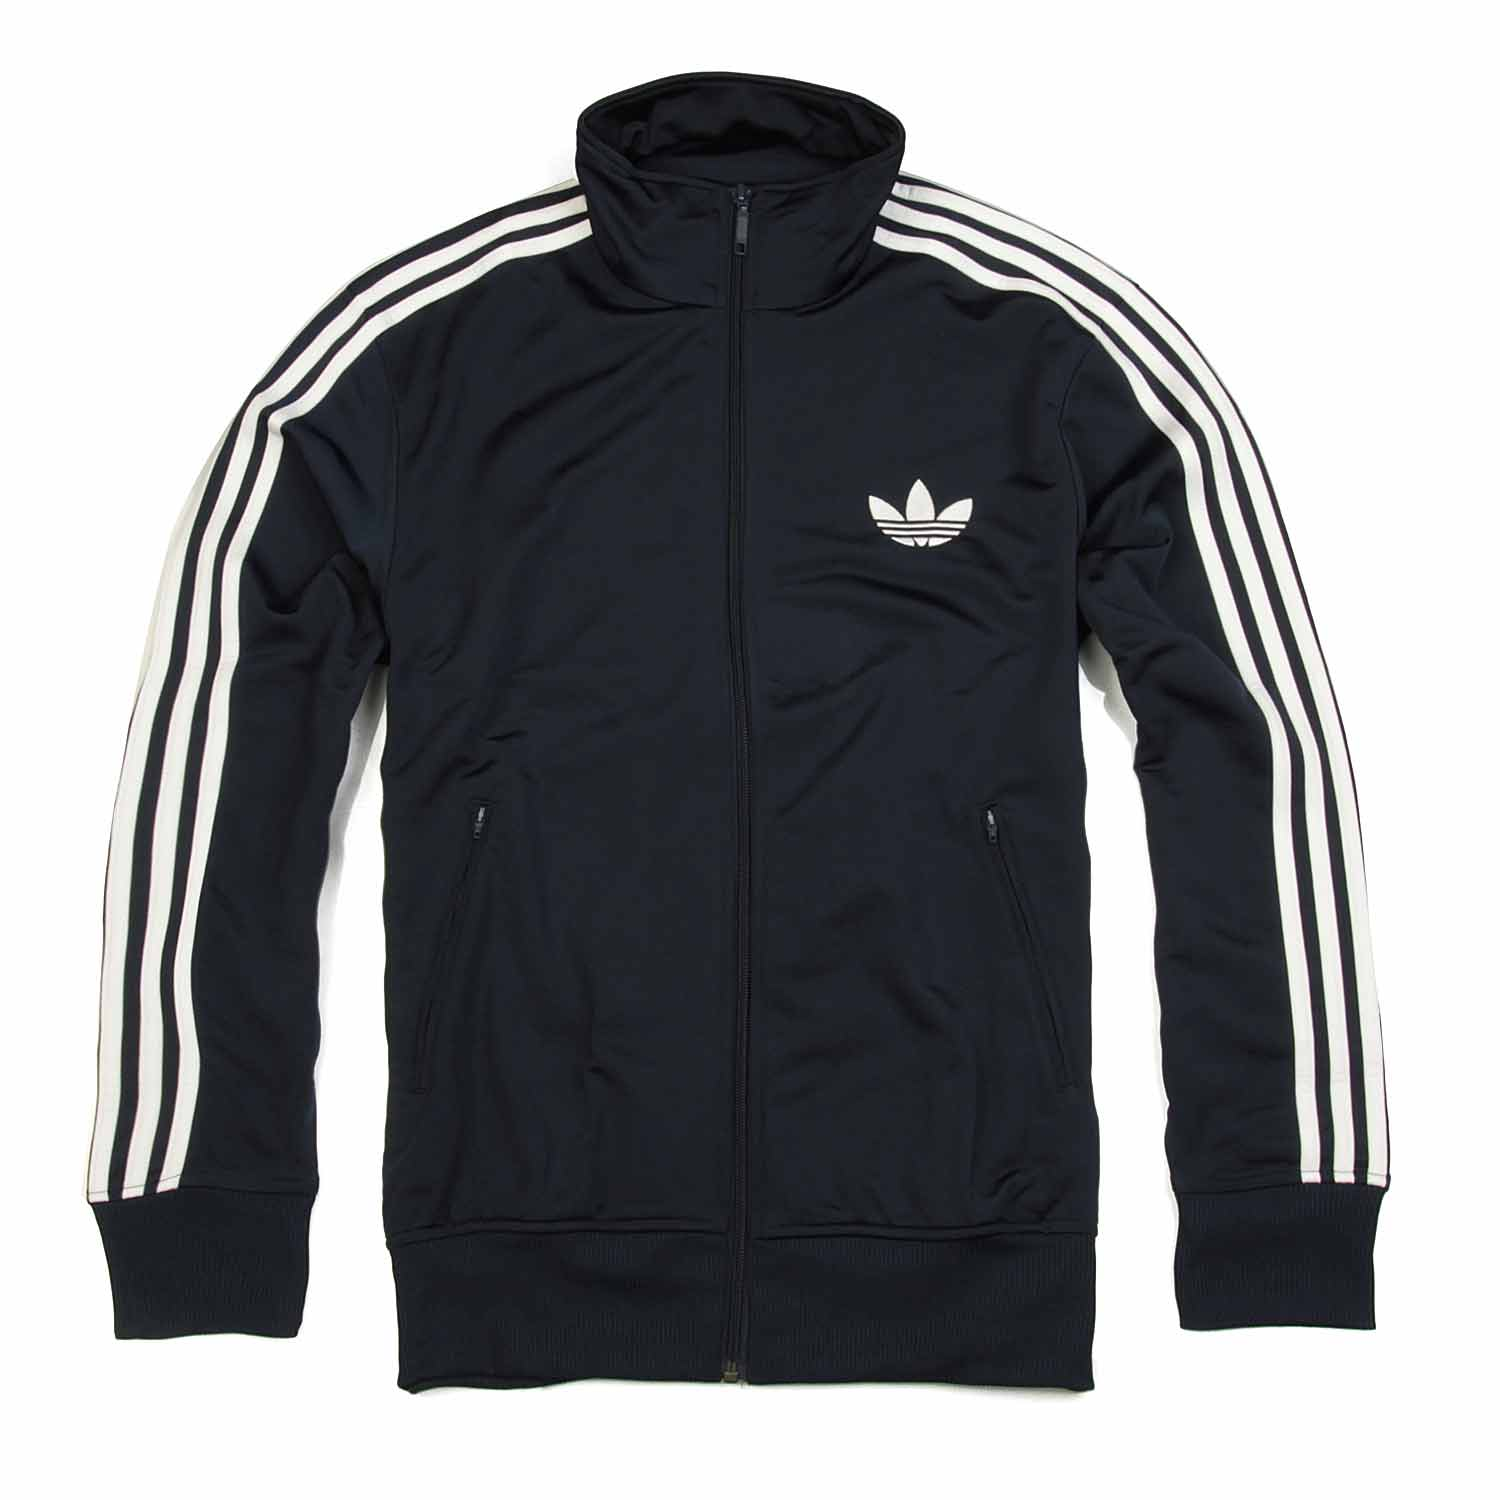flexible: (85, 69, 1396, 1400)
